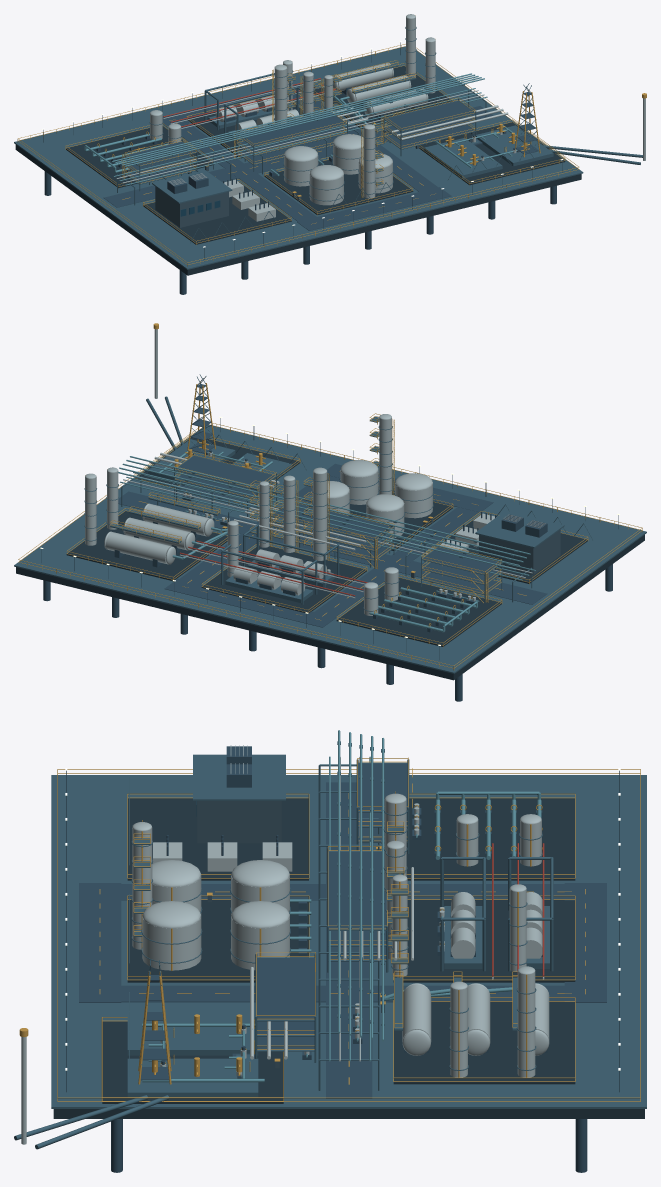
The model's file is campus.glb.
3 renders of one model, top to bottom at view 1: azimuth 30°, elevation 25°; view 2: azimuth 150°, elevation 25°; view 3: azimuth 270°, elevation 25°, orthographic. The views are drawn at different scales.
Visible parts, largest first — view 1: Plant equipment (×52); view 2: Plant equipment (×46); view 3: Plant equipment (×58).
Boxes of the visible parts, x1,y1,x2,y2 form: Plant equipment (×52): (14,17,583,275); Plant equipment (×46): (14,418,646,680); Plant equipment (×58): (14,730,646,1172).
Bounding box in the file's own units: 213 × 55.83 × 150.
